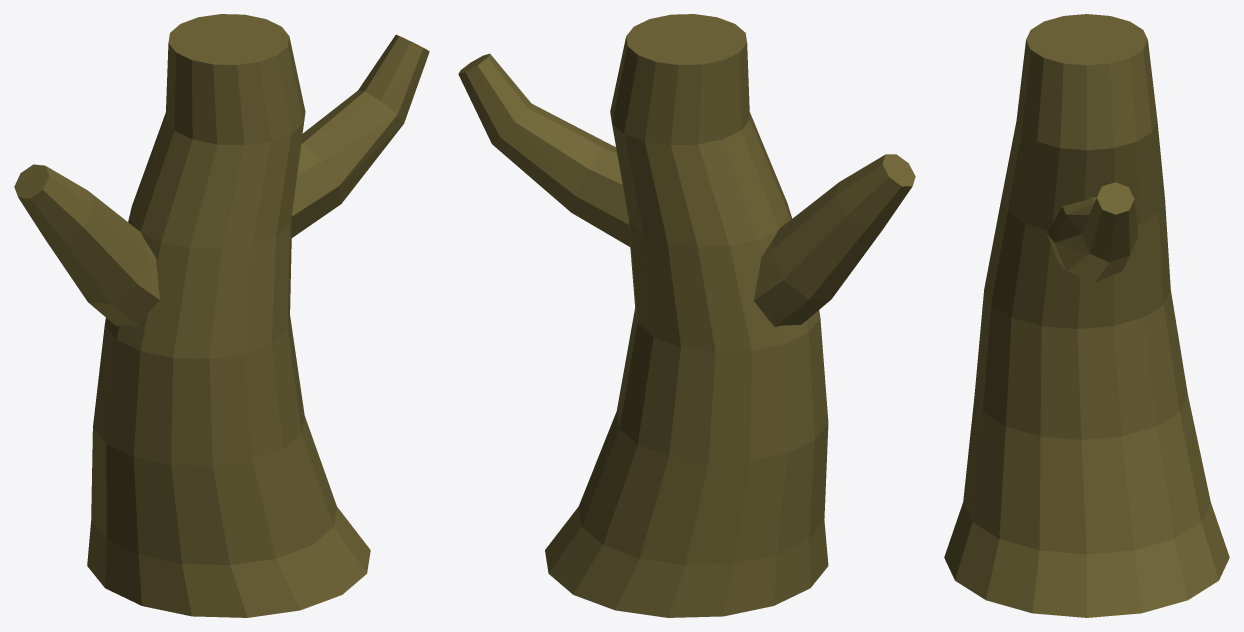
The model's file is WillowTrunk.obj.
The picture shows the model from 3 angles, left to right: view 1: azimuth 30°, elevation 25°; view 2: azimuth 150°, elevation 25°; view 3: azimuth 270°, elevation 25°; orthographic projection.
Visible parts, largest first — view 1: WillowTrunk_WillowBark; view 2: WillowTrunk_WillowBark; view 3: WillowTrunk_WillowBark.
Part boxes in pixels (left/top/right/bottom): WillowTrunk_WillowBark: left=14, top=14, right=429, bottom=617; WillowTrunk_WillowBark: left=458, top=14, right=915, bottom=617; WillowTrunk_WillowBark: left=944, top=14, right=1229, bottom=617.
Size of the model in its own units: 2.61 by 3 by 1.5.
